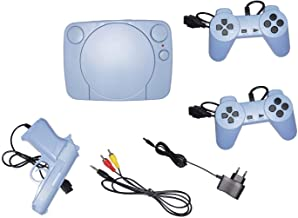gamingconsole: (206, 5, 291, 63), (215, 88, 297, 147)
